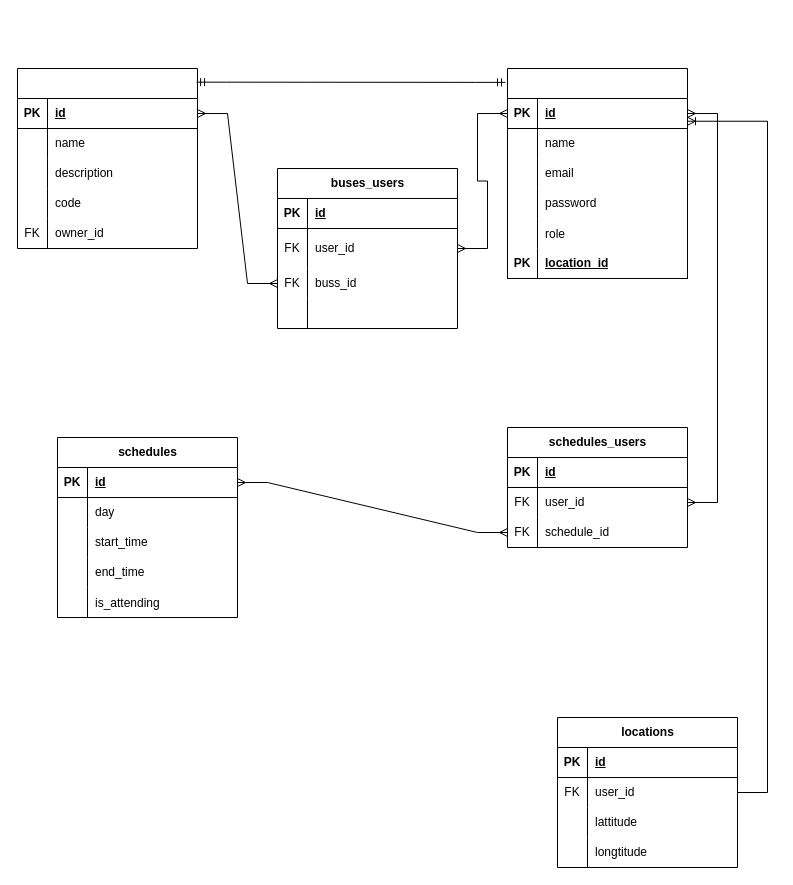
Some shapes in this 793 by 885 pixel diagram are drawn without their labels. Here are the shapes that lost their labels. From the top down, the box of each, then its label:
(16, 68, 198, 248): buses
(506, 68, 688, 278): users
